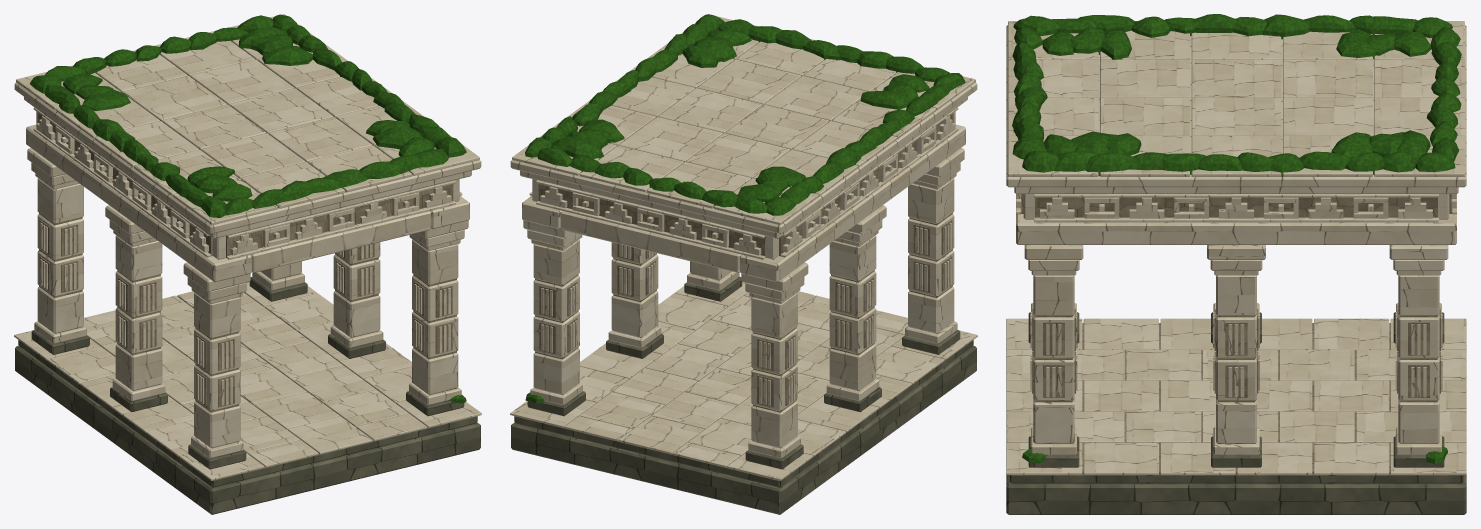
The picture shows the model from 3 angles, left to right: view 1: azimuth 30°, elevation 25°; view 2: azimuth 150°, elevation 25°; view 3: azimuth 270°, elevation 25°; orthographic projection. The views are drawn at different scales.
Visible parts, largest first — view 1: Mesh_Wing_Masonry, Mesh_Wing_Columns, Mesh_Wing_Moss, Mesh_Wing_DampBase, Mesh_Wing_Relief; view 2: Mesh_Wing_Masonry, Mesh_Wing_Columns, Mesh_Wing_Moss, Mesh_Wing_DampBase, Mesh_Wing_Relief; view 3: Mesh_Wing_Masonry, Mesh_Wing_Moss, Mesh_Wing_Columns, Mesh_Wing_DampBase, Mesh_Wing_Relief.
Boxes of the visible parts, x1,y1,x2,y2 form: Mesh_Wing_Masonry: [14, 14, 481, 480]; Mesh_Wing_Columns: [27, 148, 468, 458]; Mesh_Wing_Moss: [30, 14, 466, 403]; Mesh_Wing_DampBase: [15, 276, 480, 514]; Mesh_Wing_Relief: [38, 113, 456, 454]; Mesh_Wing_Masonry: [510, 14, 977, 480]; Mesh_Wing_Columns: [523, 148, 964, 458]; Mesh_Wing_Moss: [525, 14, 965, 403]; Mesh_Wing_DampBase: [511, 276, 976, 514]; Mesh_Wing_Relief: [535, 113, 953, 456]; Mesh_Wing_Masonry: [1006, 21, 1466, 474]; Mesh_Wing_Moss: [1012, 14, 1461, 464]; Mesh_Wing_Columns: [1024, 245, 1448, 455]; Mesh_Wing_DampBase: [1006, 312, 1466, 514]; Mesh_Wing_Relief: [1021, 194, 1451, 472].
Bounding box in the file's own units: 4.6 × 4.95 × 5.8.
Materials: 4 (4 with a texture image).
